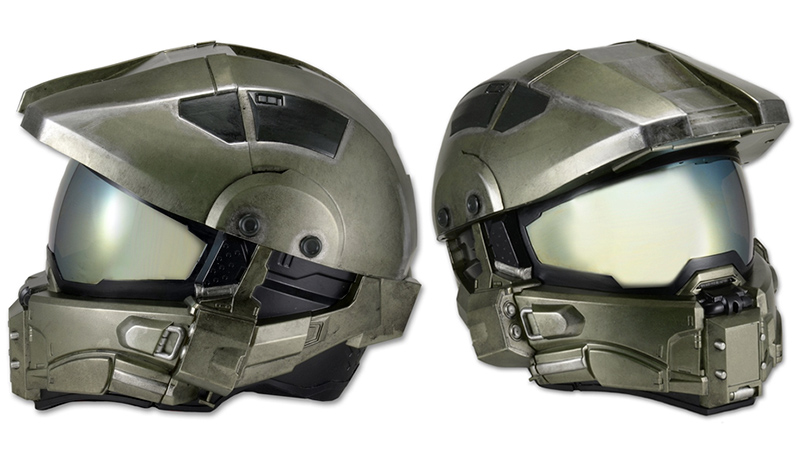with_helmet: (5, 36, 427, 425), (429, 35, 800, 420)
